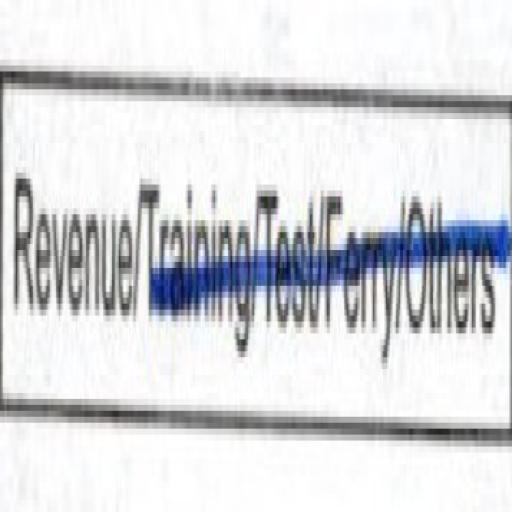check: (0, 0, 141, 484)
